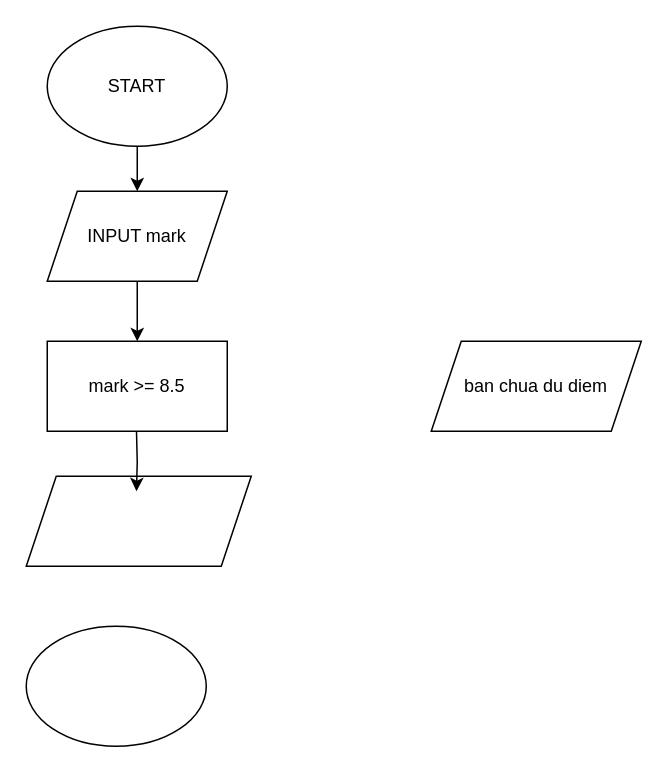
Image size: 668x773. Some labels were removed from this diagram. Each missing label, with the centre of its shape:
"ban duoc tuyen thang" belongs at point (138, 520).
"END" belongs at point (115, 685).
